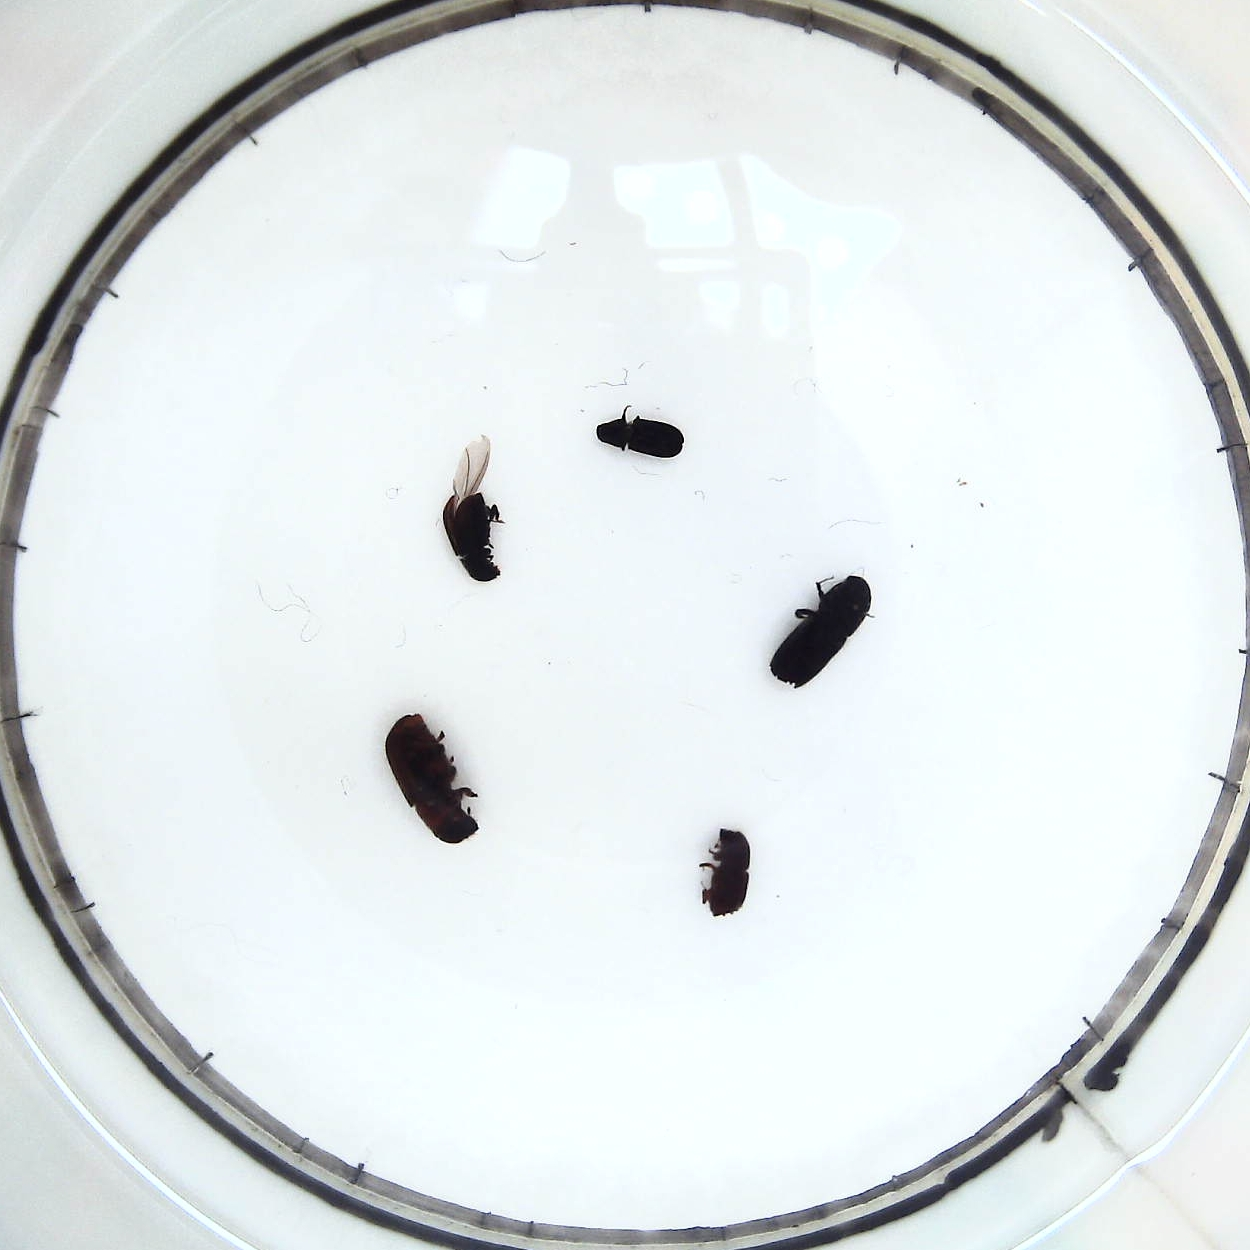Boerner: (764, 569, 883, 693)
Leconte: (380, 710, 485, 849)
armandi: (436, 435, 511, 591)
coleoptera: (588, 410, 688, 464)
linnaeus: (697, 826, 755, 925)
